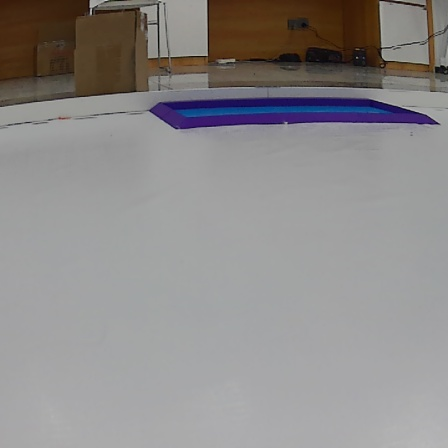blue_aim: (148, 93, 433, 129)
